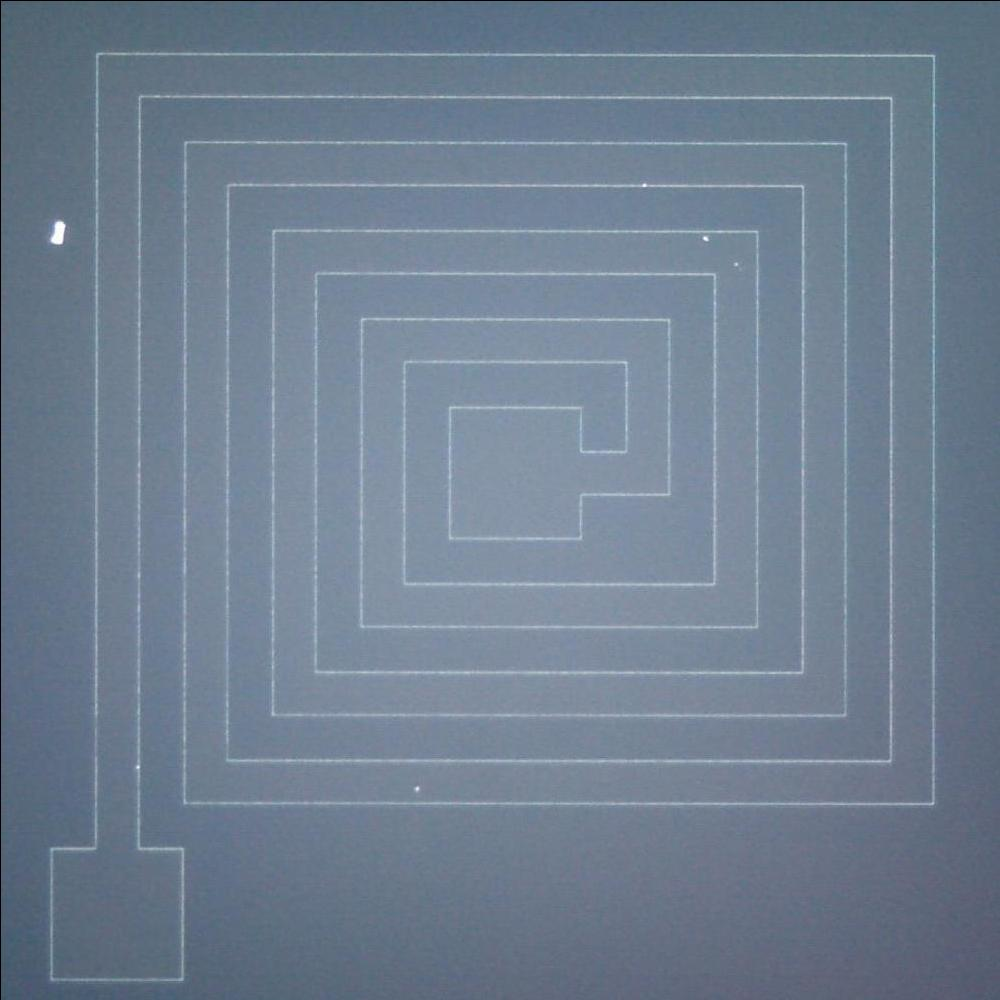dot: (690, 228, 720, 256), (403, 772, 434, 798), (726, 250, 755, 277)
spot: (41, 209, 78, 258)
